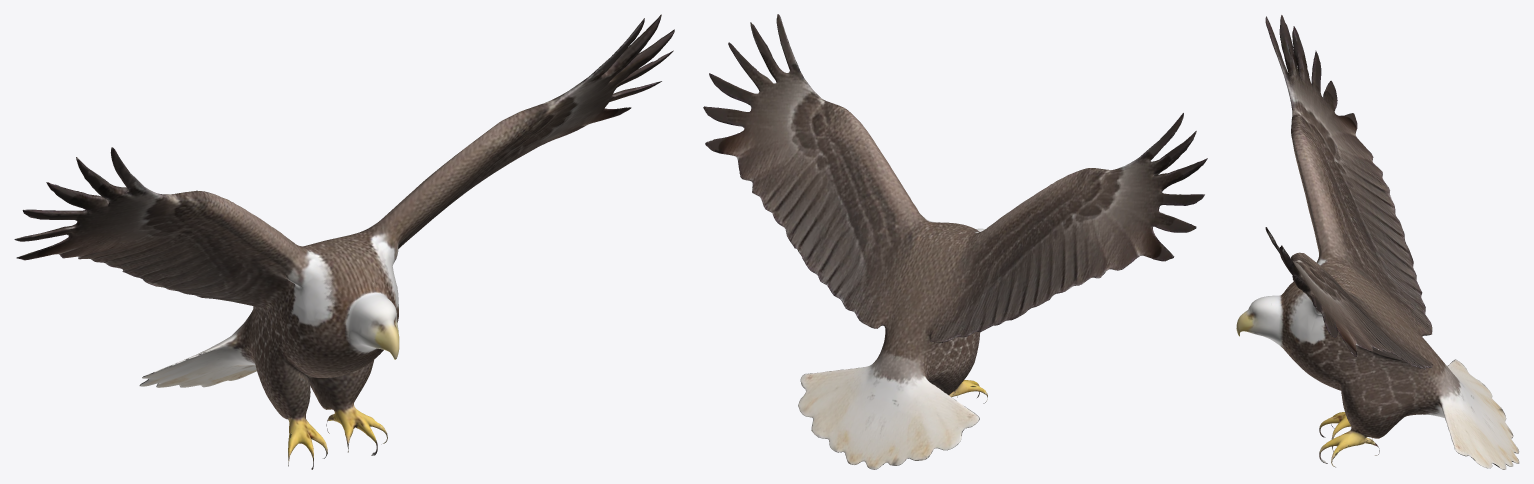
Rendered from eagle_soaring.glb.
3 renders of one model, left to right at view 1: azimuth 30°, elevation 25°; view 2: azimuth 150°, elevation 25°; view 3: azimuth 270°, elevation 25°, orthographic. The views are drawn at different scales.
Parts seen in each view (by area): view 1: model; view 2: model; view 3: model.
Part boxes in pixels (x1=…): model: x1=14, y1=14, x2=674, y2=469; model: x1=703, y1=14, x2=1207, y2=469; model: x1=1236, y1=15, x2=1519, y2=469.
Bounding box in the file's own units: 1.89 × 1.15 × 0.8818.
1 material, 1 textured.
